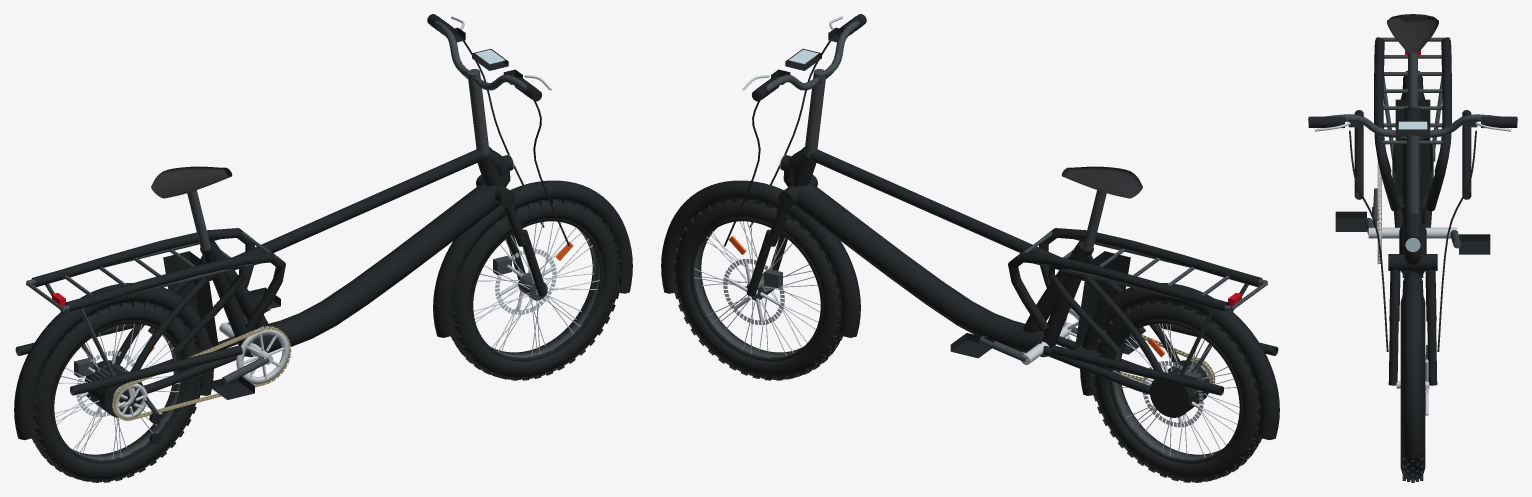
Rendered from rad-power-radwagon-4.glb.
3 renders of one model, left to right at view 1: azimuth 30°, elevation 25°; view 2: azimuth 150°, elevation 25°; view 3: azimuth 270°, elevation 25°, orthographic.
Parts seen in each view (by area): view 1: Bodywork | black, BatteryMount | black, FrontWheel | rubber, Chassis | black, RearWheel | rubber, FrontWheel | steel, Drive | steel, Bodywork | graphite, Cockpit | graphite, FrontWheel | graphite, RearWheel | steel, Fork | black (+10 smaller); view 2: Bodywork | black, BatteryMount | black, FrontWheel | rubber, Chassis | black, RearWheel | rubber, FrontWheel | steel, Bodywork | graphite, RearWheel | steel, Cockpit | graphite, FrontWheel | graphite, FrontWheel | black, Bodywork | seat (+9 smaller); view 3: Bodywork | black, Fork | black, Cockpit | graphite, Cockpit | rubber, Chassis | black, BatteryMount | black, Bodywork | graphite, FrontWheel | rubber, Bodywork | seat, Drive | black, Drive | steel, Cockpit | black (+5 smaller).
Boxes of the visible parts, x1=… form: Bodywork | black: x1=14, y1=155, x2=632, y2=440; BatteryMount | black: x1=163, y1=182, x2=500, y2=357; FrontWheel | rubber: x1=451, y1=199, x2=621, y2=380; Chassis | black: x1=115, y1=147, x2=510, y2=393; RearWheel | rubber: x1=32, y1=301, x2=202, y2=482; FrontWheel | steel: x1=473, y1=221, x2=599, y2=356; Drive | steel: x1=113, y1=322, x2=289, y2=418; Bodywork | graphite: x1=26, y1=231, x2=276, y2=376; Cockpit | graphite: x1=434, y1=21, x2=537, y2=155; FrontWheel | graphite: x1=491, y1=228, x2=600, y2=357; RearWheel | steel: x1=54, y1=323, x2=180, y2=458; Fork | black: x1=476, y1=175, x2=546, y2=296; Bodywork | black: x1=661, y1=155, x2=1279, y2=440; BatteryMount | black: x1=793, y1=182, x2=1130, y2=357; FrontWheel | rubber: x1=672, y1=199, x2=842, y2=380; Chassis | black: x1=783, y1=147, x2=1180, y2=394; RearWheel | rubber: x1=1091, y1=301, x2=1261, y2=482; FrontWheel | steel: x1=694, y1=221, x2=820, y2=355; Bodywork | graphite: x1=1017, y1=231, x2=1267, y2=376; RearWheel | steel: x1=1113, y1=323, x2=1239, y2=457; Cockpit | graphite: x1=756, y1=21, x2=859, y2=155; FrontWheel | graphite: x1=694, y1=228, x2=802, y2=357; FrontWheel | black: x1=690, y1=219, x2=822, y2=361; Bodywork | seat: x1=1061, y1=166, x2=1142, y2=198; Bodywork | black: x1=1354, y1=37, x2=1471, y2=457; Fork | black: x1=1388, y1=254, x2=1437, y2=385; Cockpit | graphite: x1=1308, y1=114, x2=1517, y2=214; Cockpit | rubber: x1=1308, y1=116, x2=1517, y2=351; Chassis | black: x1=1393, y1=107, x2=1432, y2=274; BatteryMount | black: x1=1395, y1=99, x2=1430, y2=276; Bodywork | graphite: x1=1375, y1=37, x2=1450, y2=159; FrontWheel | rubber: x1=1400, y1=289, x2=1425, y2=482; Bodywork | seat: x1=1387, y1=14, x2=1438, y2=52; Drive | black: x1=1335, y1=207, x2=1490, y2=254; Drive | steel: x1=1368, y1=163, x2=1457, y2=263; Cockpit | black: x1=1314, y1=114, x2=1511, y2=135.
Size of the model in its own units: 2.24 by 1.16 by 0.6634.
